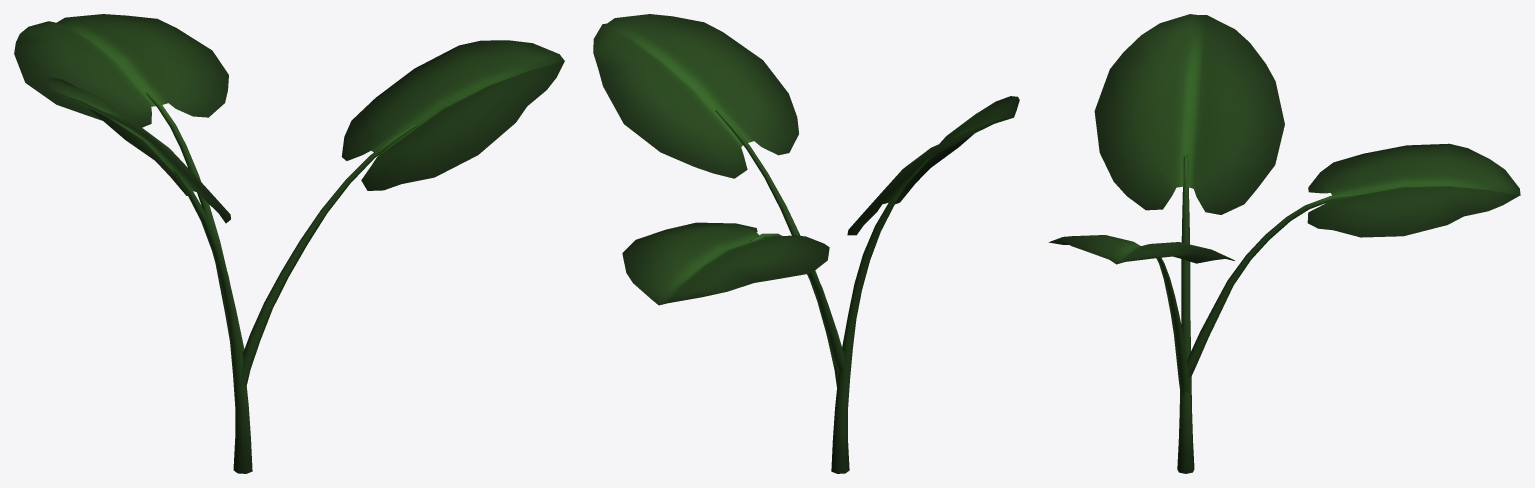
Rendered from hoja_de_elefante.glb.
3 renders of one model, left to right at view 1: azimuth 30°, elevation 25°; view 2: azimuth 150°, elevation 25°; view 3: azimuth 270°, elevation 25°, orthographic. The views are drawn at different scales.
Parts seen in each view (by area): view 1: Plane002; view 2: Plane002; view 3: Plane002.
Part boxes in pixels (x1,y1,x2,y2): Plane002: (14, 14, 564, 473); Plane002: (593, 14, 1019, 473); Plane002: (1048, 14, 1520, 473).
Bounding box in the file's own units: 127 × 108 × 123.
1 material, 1 textured.
